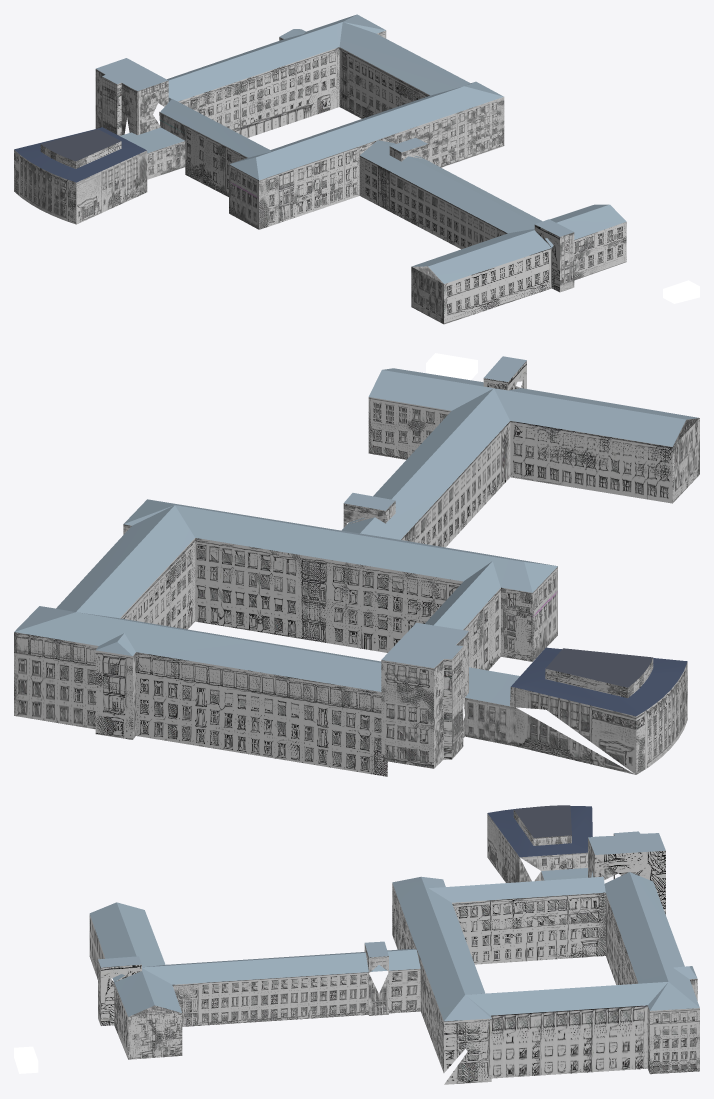
The model's file is 1Barkhausen-Bau.gltf.
3 views of the same model, one above another, from view 1: azimuth 30°, elevation 25°; view 2: azimuth 150°, elevation 25°; view 3: azimuth 270°, elevation 25° (orthographic). The views are drawn at different scales.
Visible parts, largest first — view 1: Dach.1; view 2: Dach.1; view 3: Dach.1.
Part boxes in pixels (x1,y1,x2,y2): Dach.1: [14, 14, 699, 324]; Dach.1: [14, 353, 699, 776]; Dach.1: [14, 805, 699, 1084].
Size of the model in its own units: 147 by 29.5 by 196.
59 materials, 55 textured.
